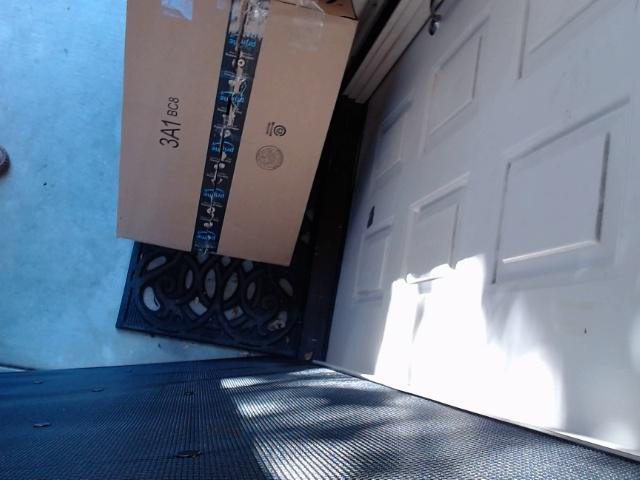box: (117, 0, 347, 276)
